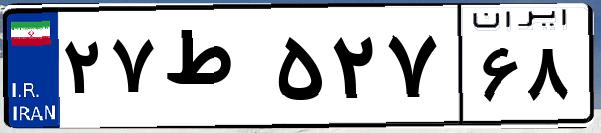2: (330, 28, 385, 110), (57, 26, 110, 100)
5: (270, 28, 330, 110)
6: (475, 38, 525, 113)
7: (385, 28, 445, 110), (110, 28, 158, 98)
8: (525, 38, 570, 115)
ط: (158, 20, 270, 120)
